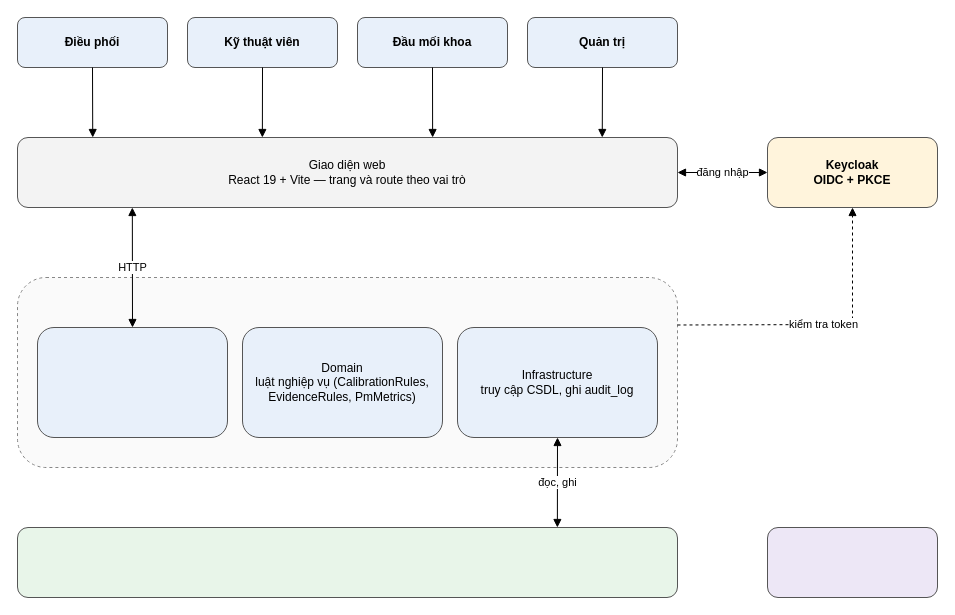
This 955x615 diagram has some shape labels left out. Here are the shapes that lost their labels. From the top down, the box of each, then its label:
(36, 326, 228, 438): Api xác thực token, ánh xạ yêu cầu
(16, 276, 678, 468): Máy chủ ASP.NET Core 10
(16, 526, 678, 598): PostgreSQL trigger BR-01, ràng buộc BR-03, view báo cáo
(766, 526, 938, 598): Docker Compose 4 dịch vụ
